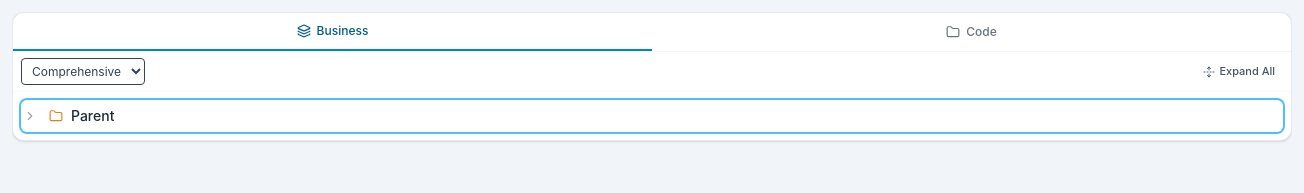
Scenario: WikiTreeNav a11y › sets aria-label for expand and collapse on folder toggles
Click the button named "Expand" at (30, 116), box [21,107,39,125]
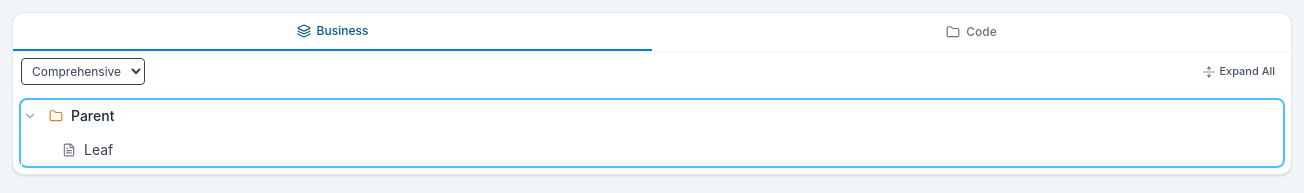
Expected: the button named "Collapse" is shown, [21,107,39,125]
